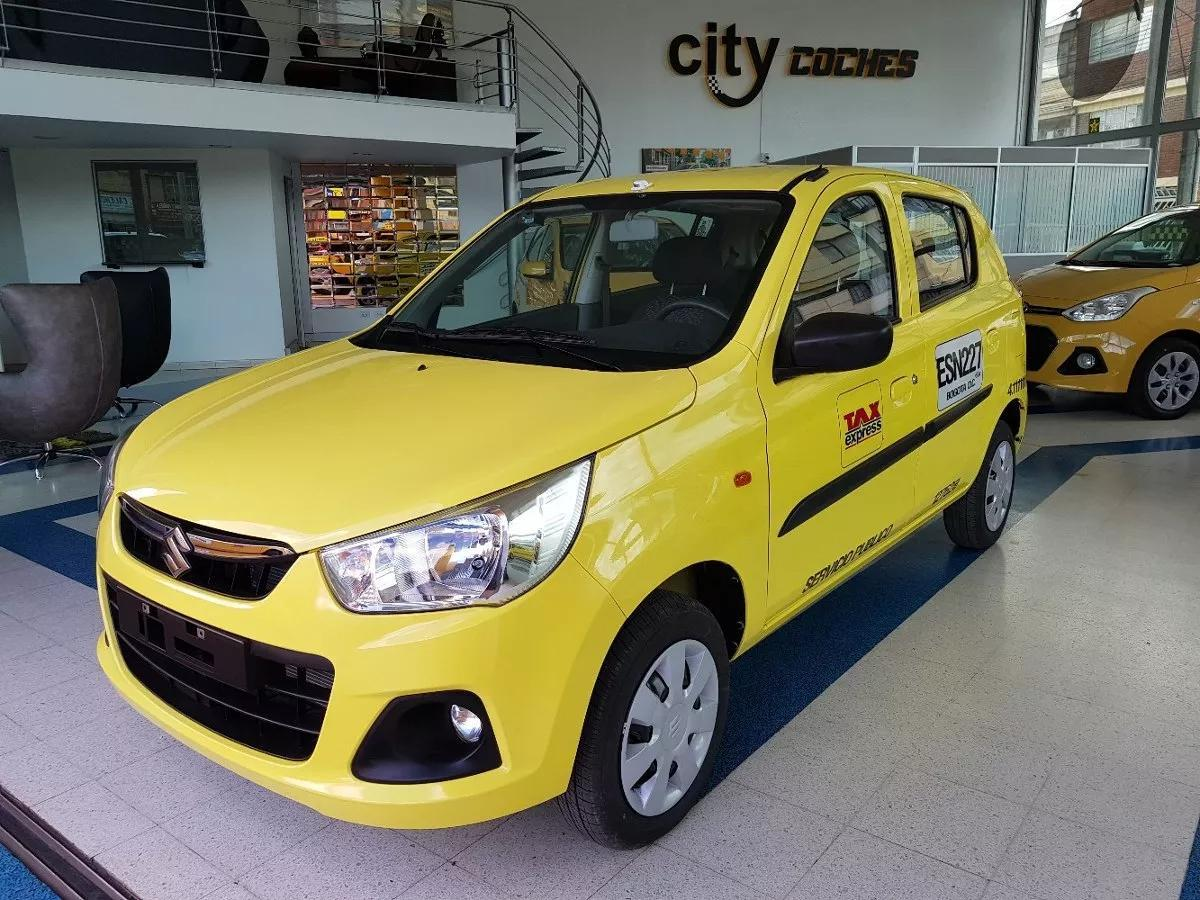taxi: (109, 133, 1035, 768)
